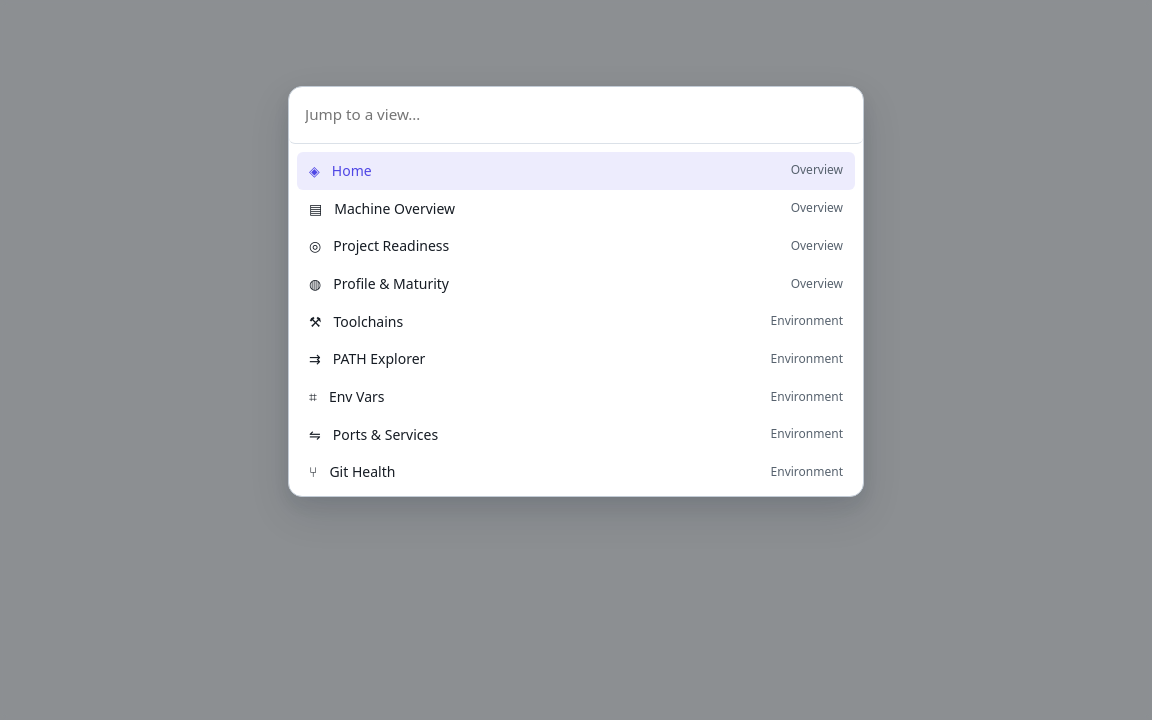
CommandPalette › says so when nothing matches
Type "zzzzz" into the dropdown. click: (576, 116)
box: [289,87,863,144]
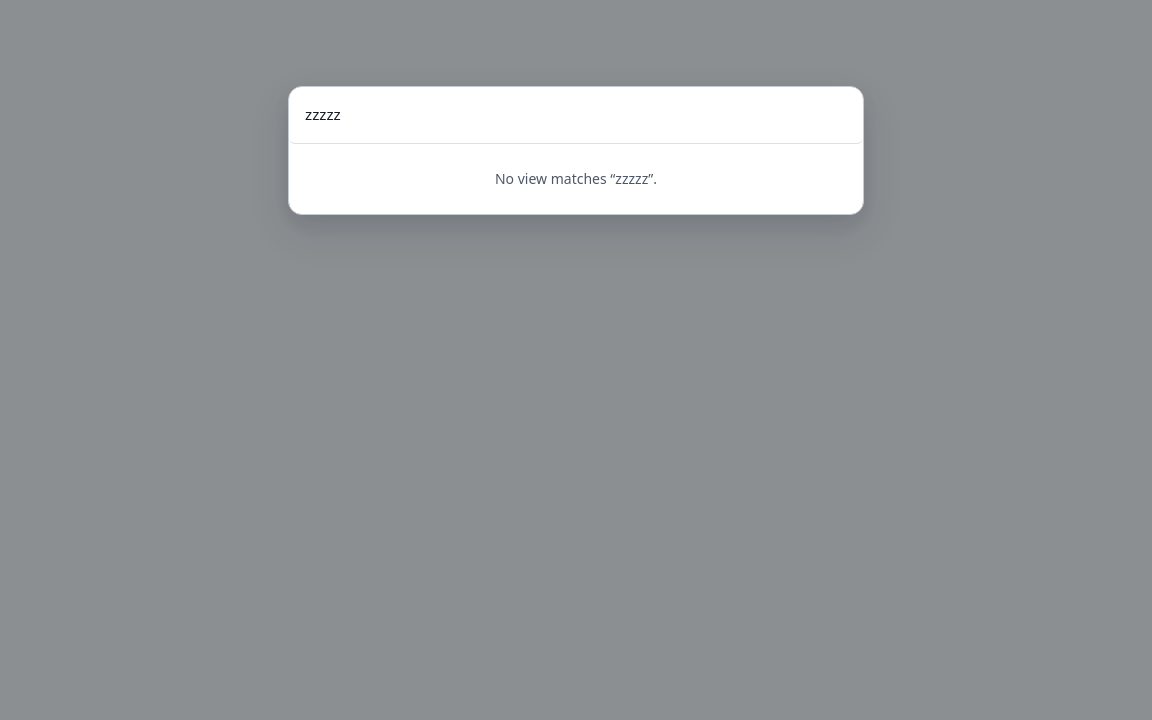
Check: no options are shown
Check: the text "No view matches “zzzzz”." is shown, box [495,169,657,188]
